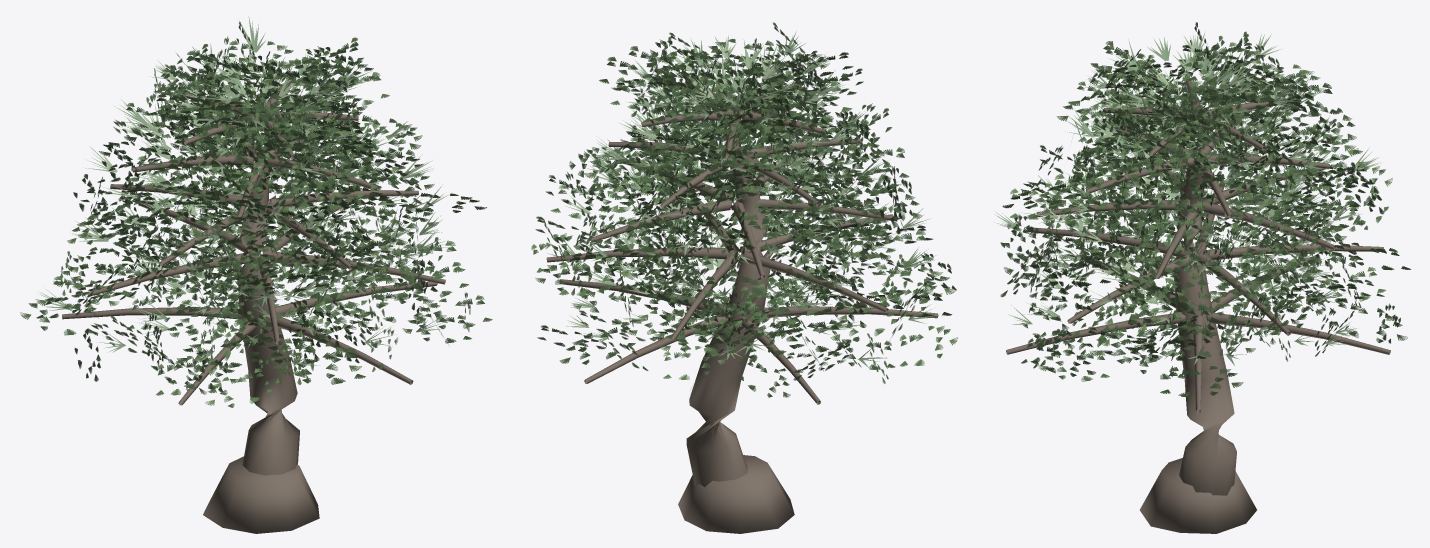
Rendered from tree2_pine.glb.
The picture shows the model from 3 angles, left to right: view 1: azimuth 30°, elevation 25°; view 2: azimuth 150°, elevation 25°; view 3: azimuth 270°, elevation 25°; orthographic projection.
Parts seen in each view (by area): view 1: cards, body; view 2: cards, body; view 3: cards, body.
Part boxes in pixels (left/top/right/bottom): cards: left=20, top=22, right=492, bottom=407; body: left=38, top=16, right=449, bottom=533; cards: left=531, top=22, right=957, bottom=397; body: left=546, top=31, right=938, bottom=533; cards: left=1000, top=22, right=1411, bottom=397; body: left=996, top=32, right=1390, bottom=533.
Size of the model in its own units: 5.4 by 5.86 by 4.84.
Materials: 5 (1 with a texture image).
